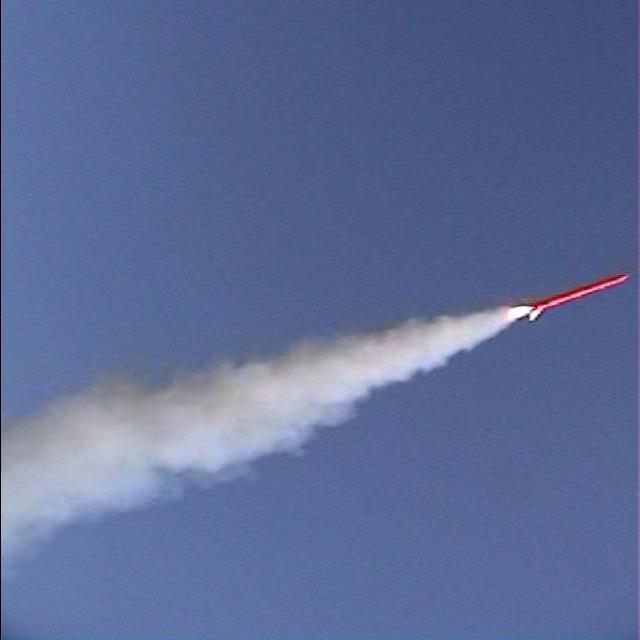Missile: (519, 272, 632, 324)
